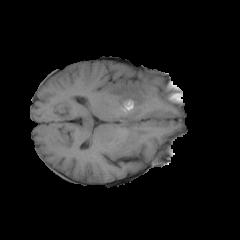glioma: (107, 83, 148, 113)
